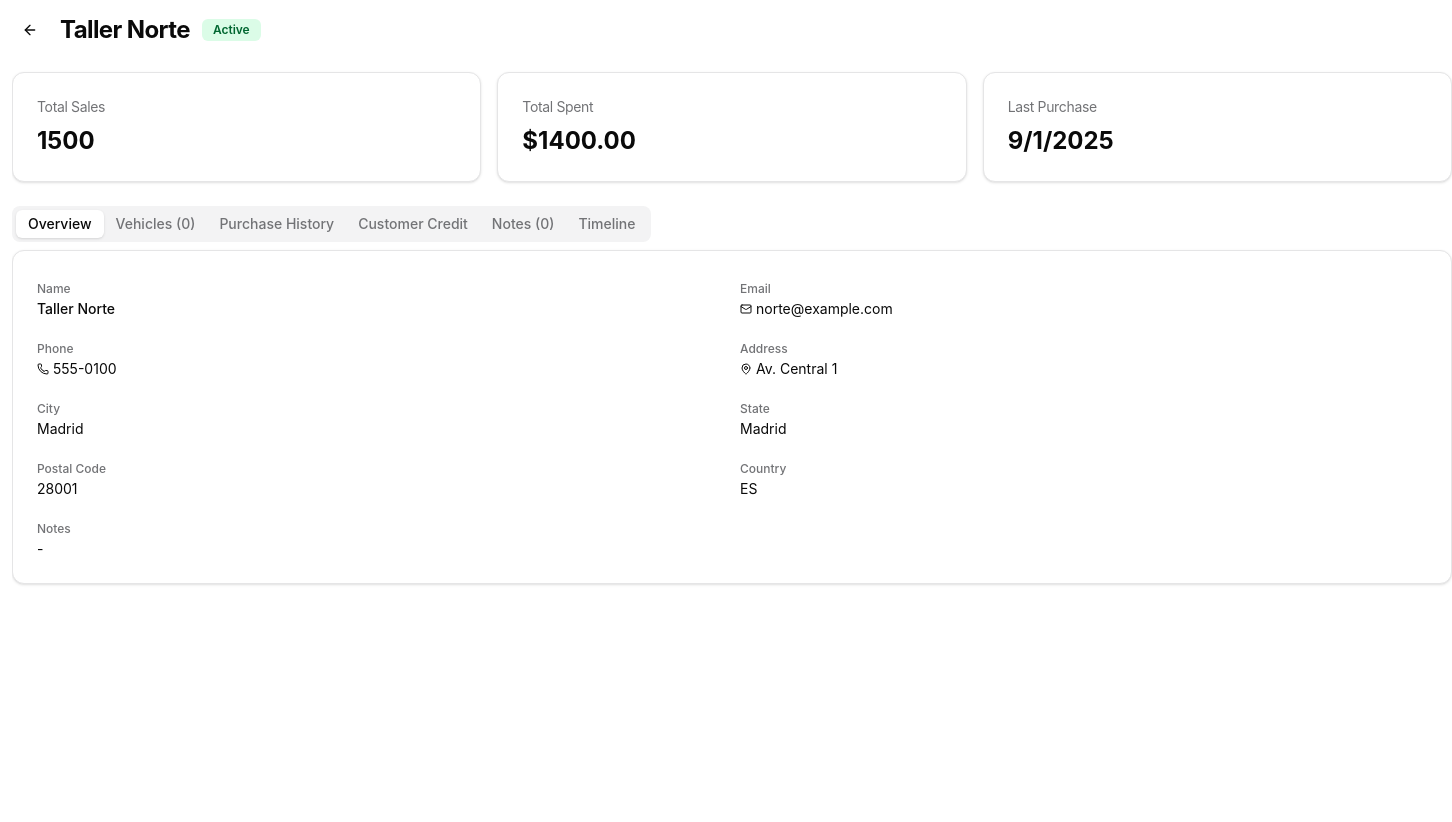
Test: CrmCustomerDetailPage › credit › stores a charge as a negative amount so the balance moves the right way
This screenshot has width=1452, height=822.
Click the tab "Customer Credit" at [413, 224], box [346,210,480,238]
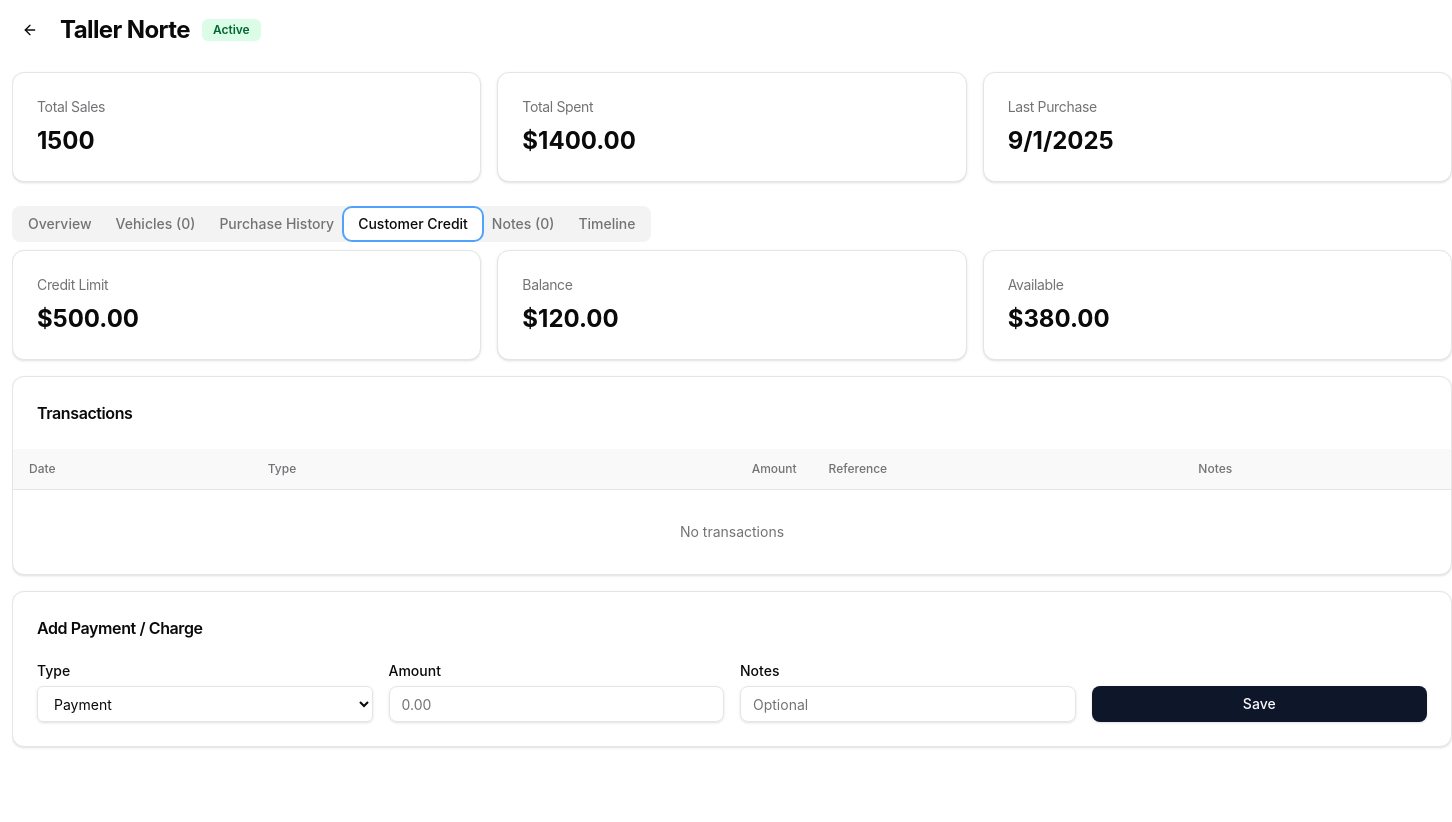
Result: the panel is shown at [12,250,1451,747]
Select "Charge" in the dropdown labelled "Type" at [205, 704], box [37,686,372,722]
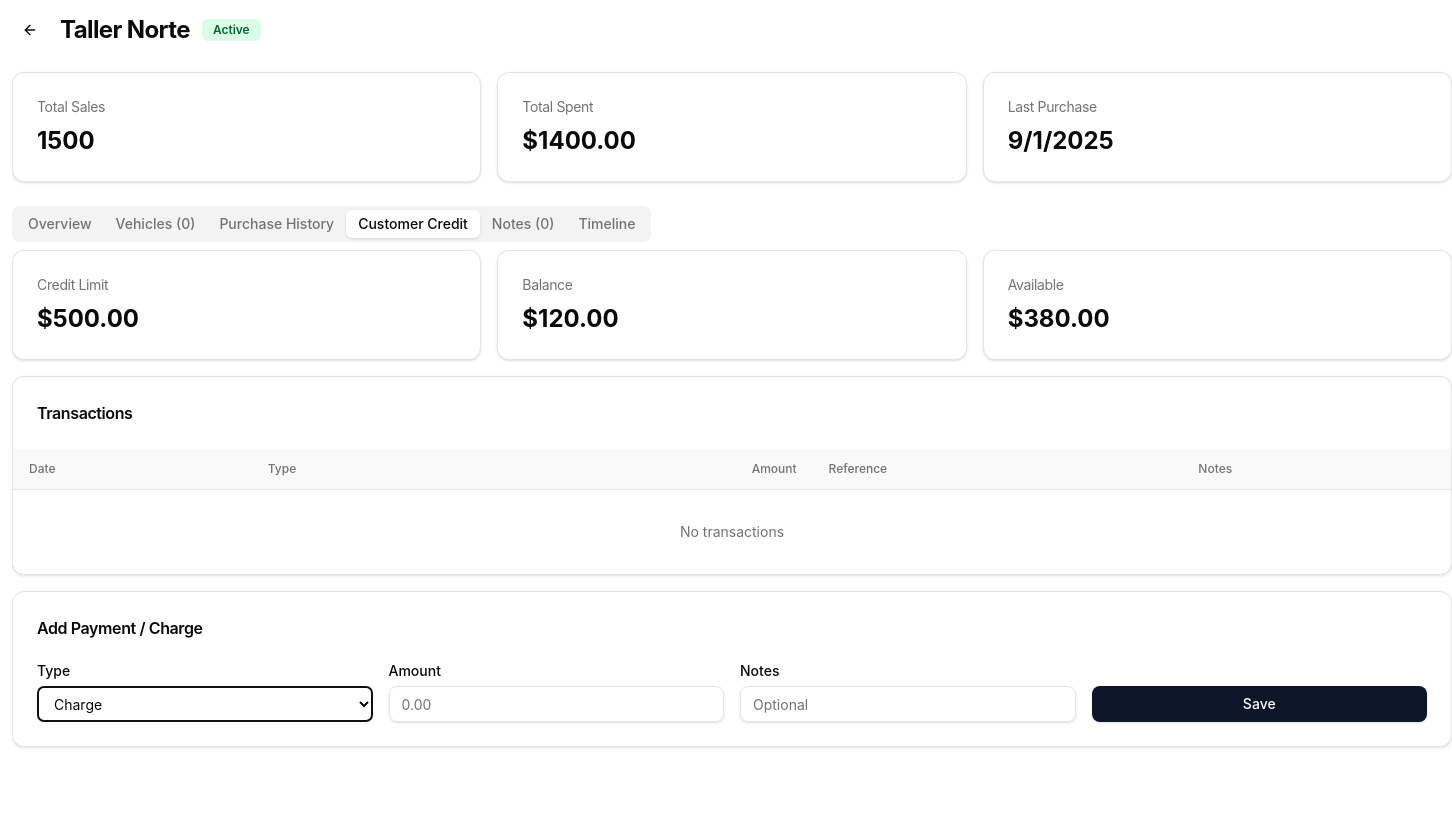
Type "200" into the number field labelled "Amount" at [556, 704], box [388,686,724,722]
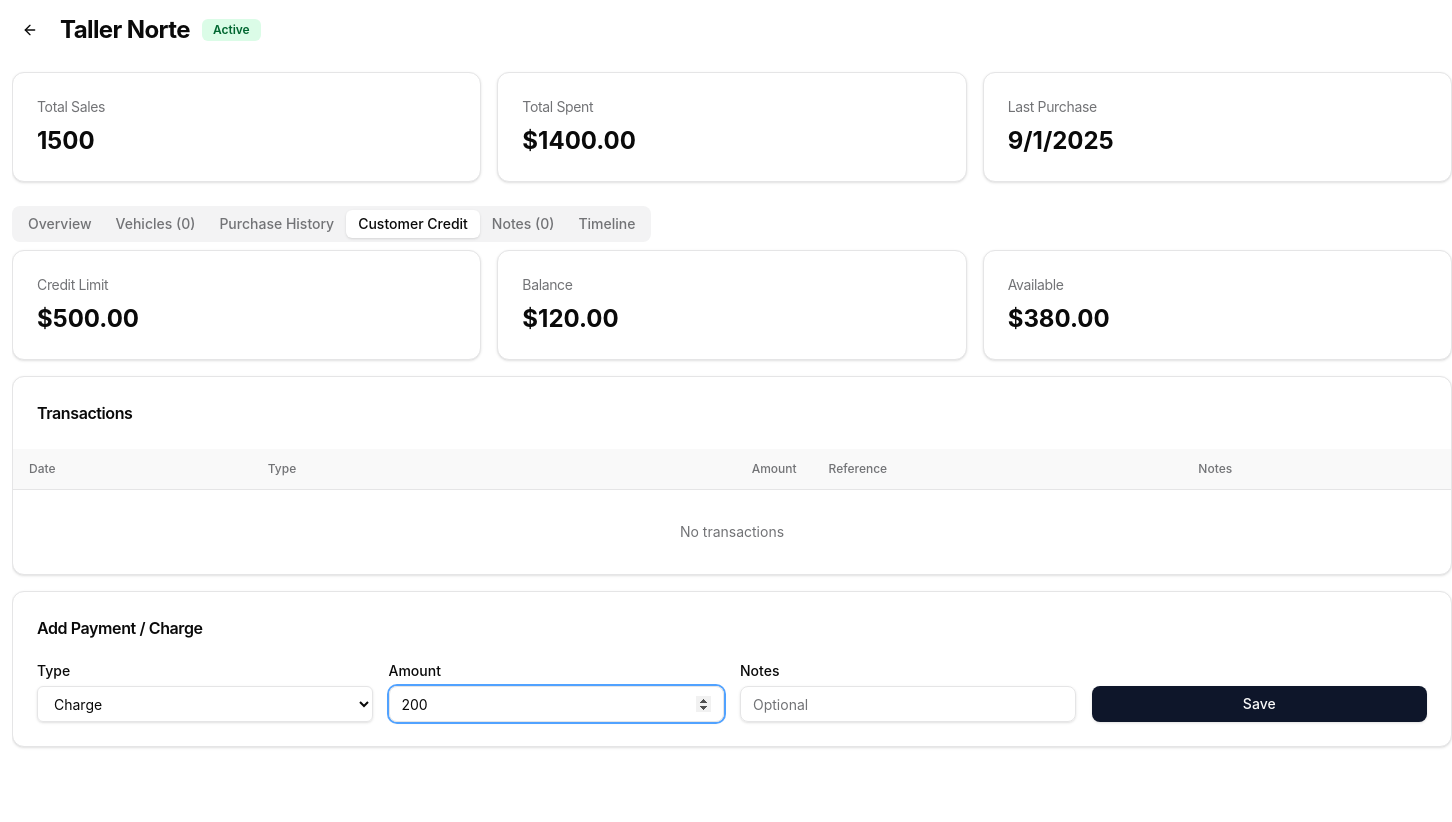
Click the button "Save" at [1259, 704], box [1092,686,1427,722]
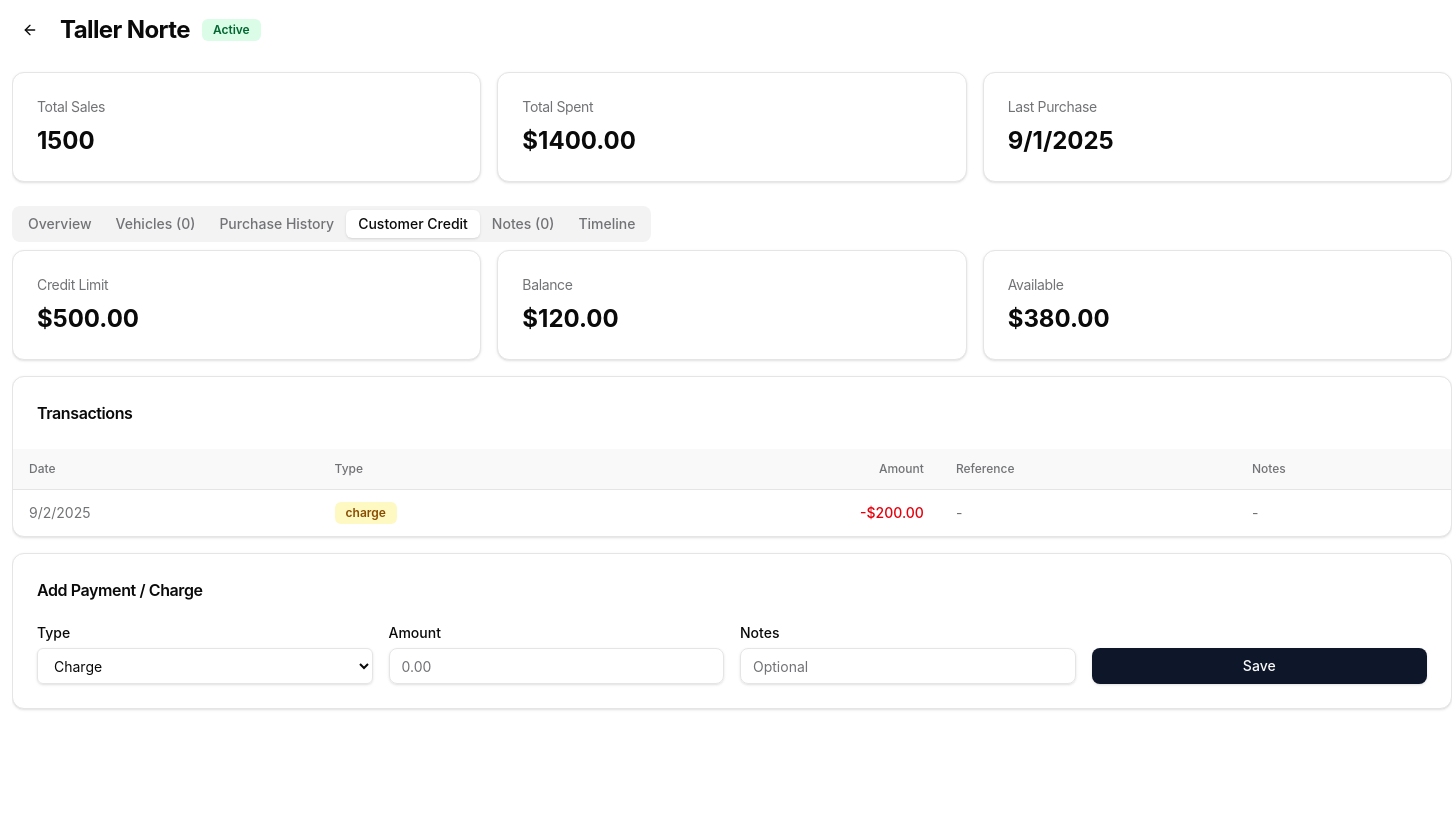
Result: the text "charge" is shown at [335,502,397,524]
